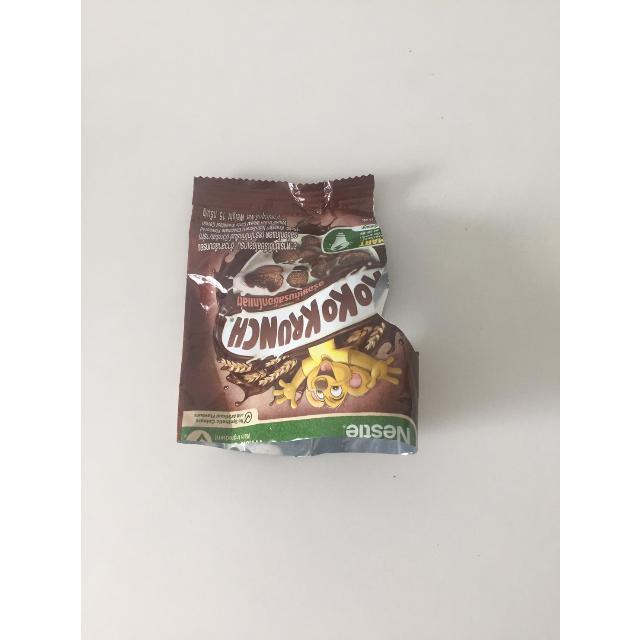Paquete de plastico: (182, 175, 422, 468)
